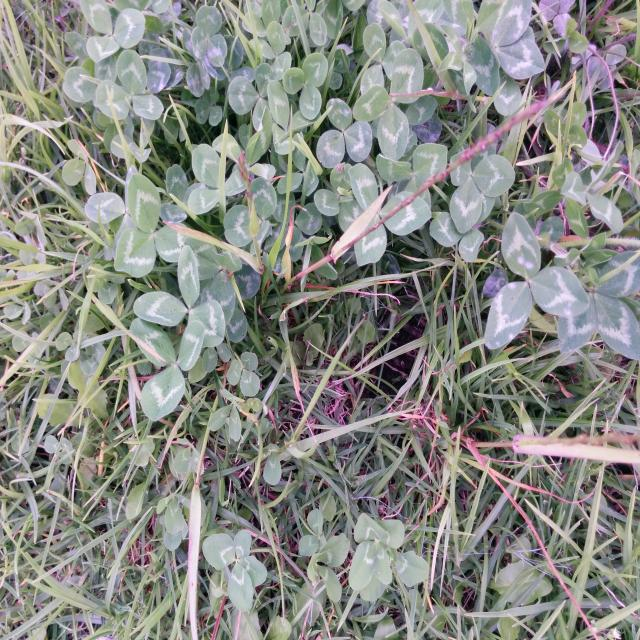Four Leaf Clover: (203, 530, 267, 611), (349, 513, 405, 590)
